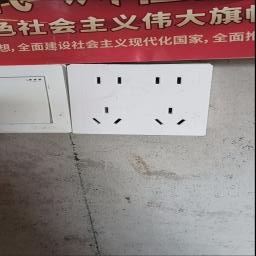outlet: (66, 59, 225, 140)
